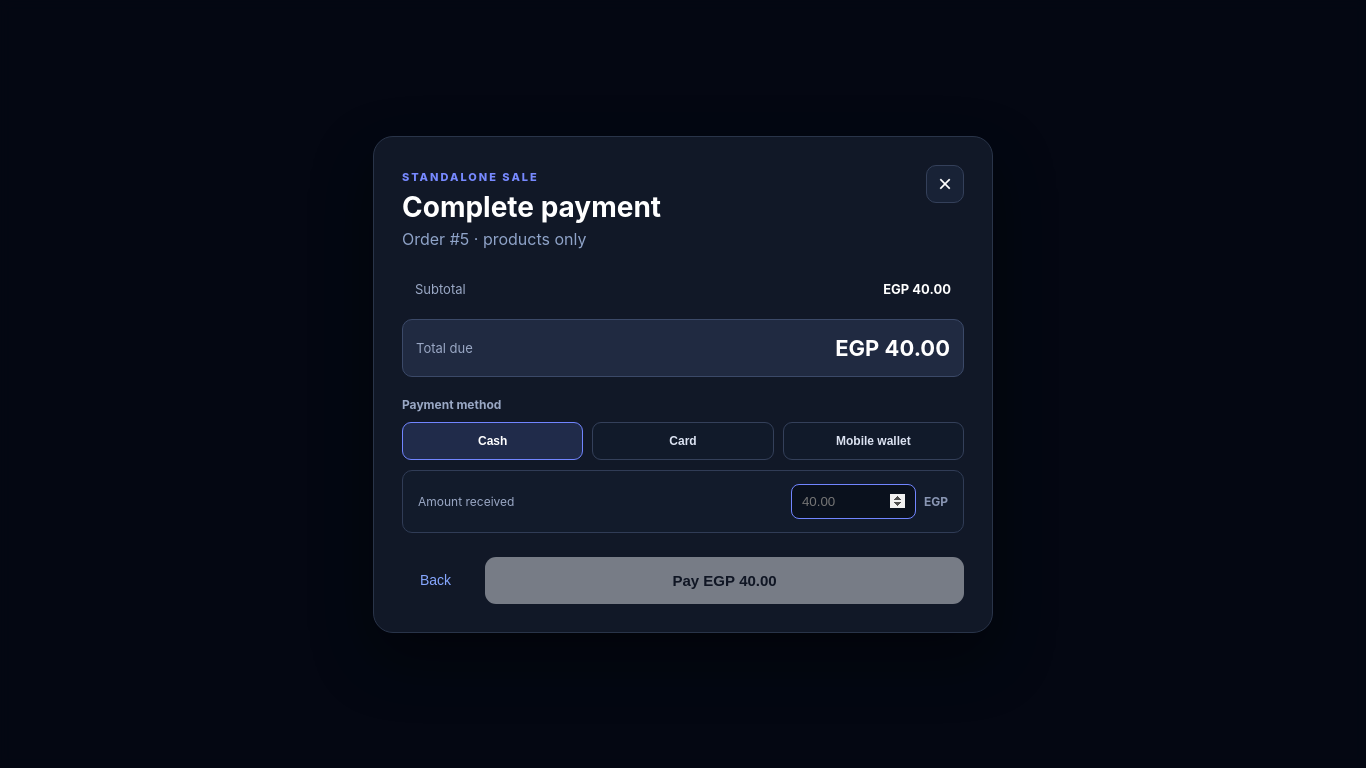
Test: POSPaymentModal › allows card and mobile-wallet payment without requiring an amount
Click the button "Card" at (683, 440), box x1=592 y1=422 x2=774 y2=460
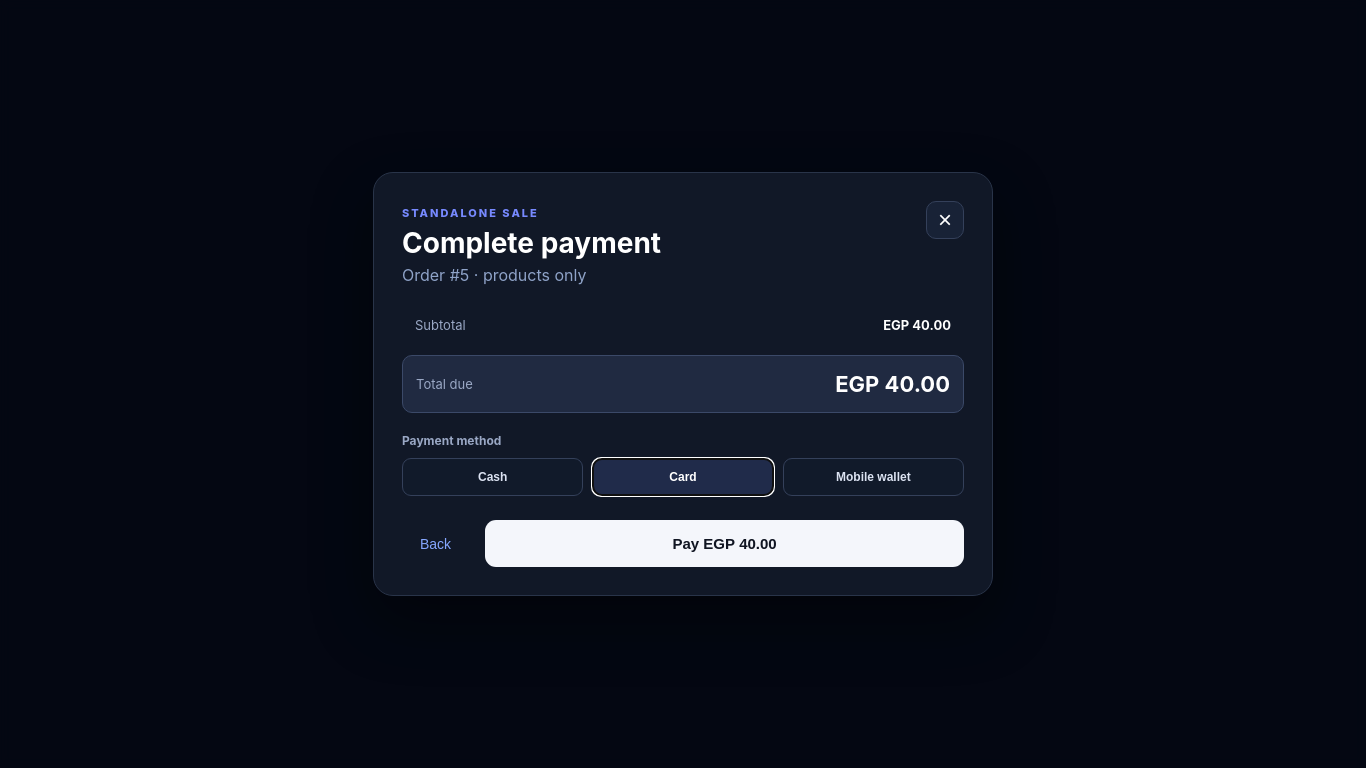
Expected: the button "Pay EGP 40.00" is enabled, x1=485 y1=520 x2=964 y2=567
